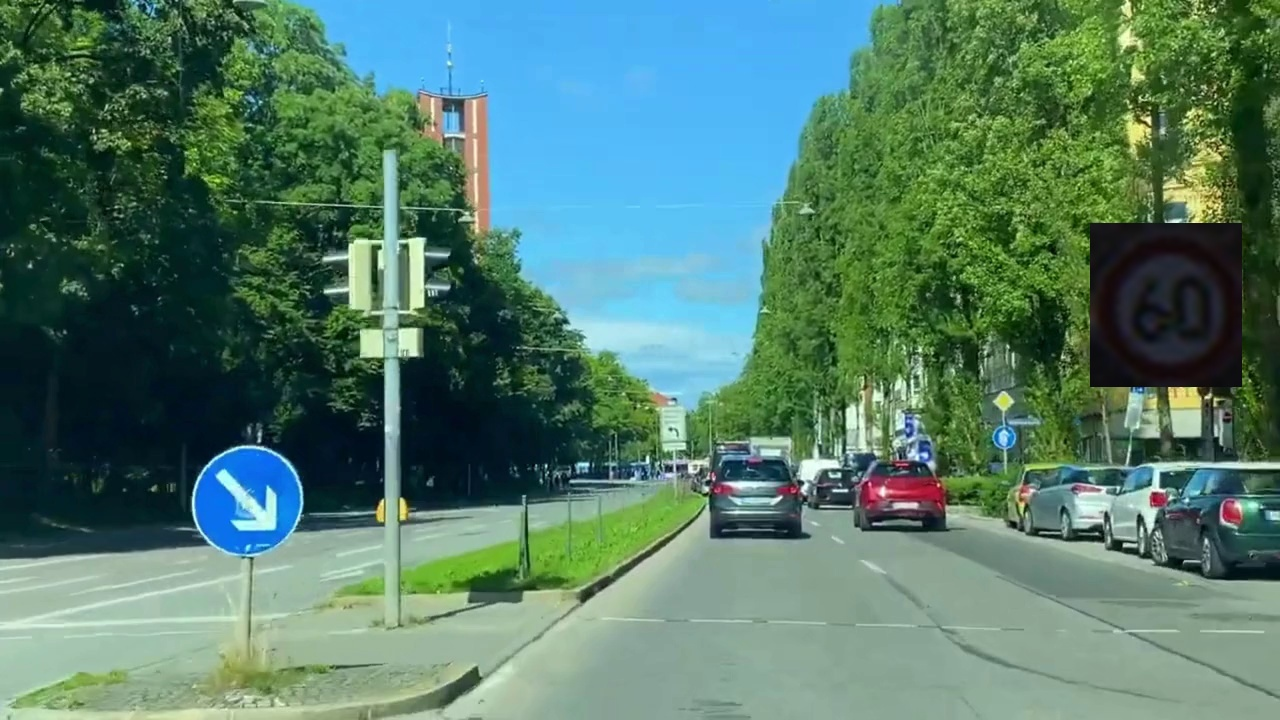Speed 60: (1090, 223, 1242, 387)
